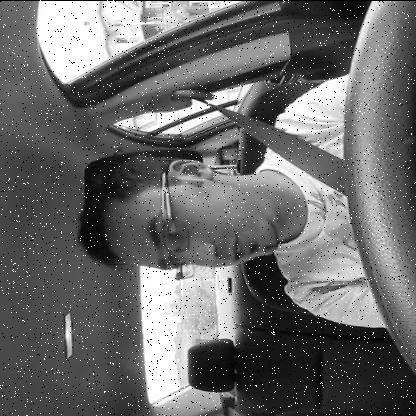seatbelt: (63, 80, 416, 286)
